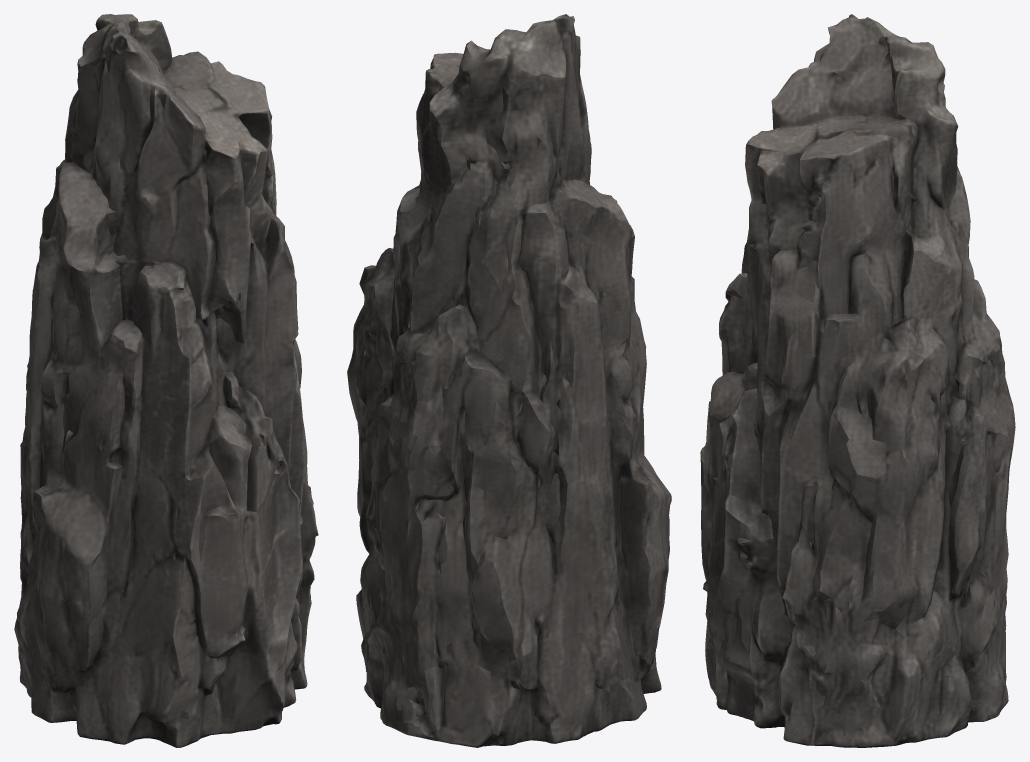
3 views of the same model, side by side, from view 1: azimuth 30°, elevation 25°; view 2: azimuth 150°, elevation 25°; view 3: azimuth 270°, elevation 25° (orthographic). The views are drawn at different scales.
Visible parts, largest first — view 1: world; view 2: world; view 3: world.
Part boxes in pixels (box(x1,y1,x2,y2)): world: box(14, 14, 318, 747); world: box(347, 14, 671, 747); world: box(700, 14, 1015, 747).
Bounding box in the file's own units: 0.4361 × 1 × 0.4394.
Materials: 1 (1 with a texture image).
